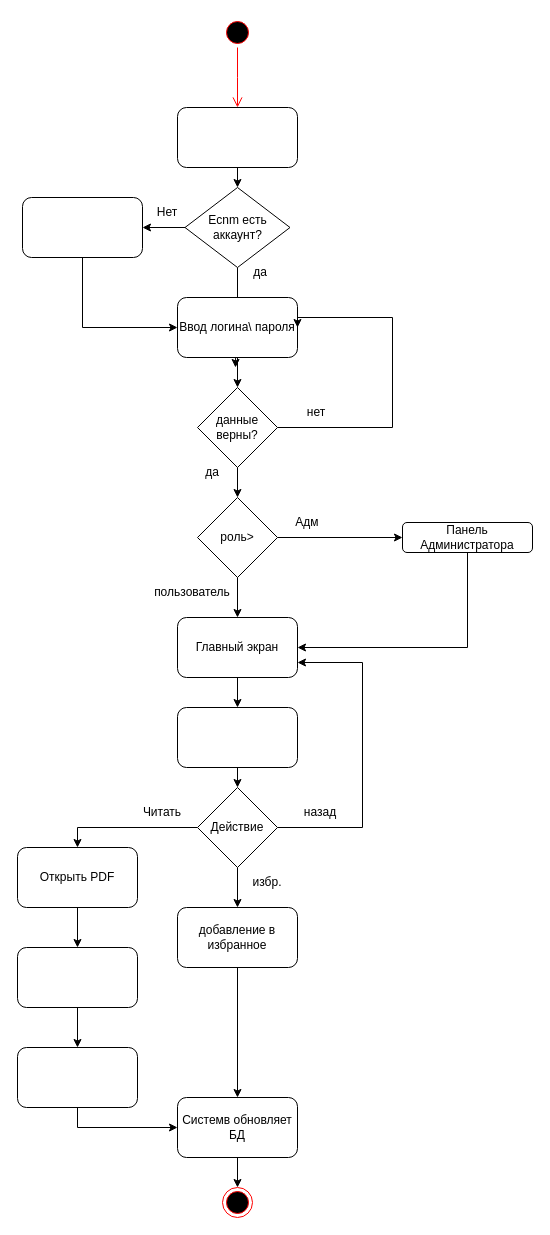
The diagram is 550 pixels wide and 1235 high, and some of its shapes have lost their labels. The shapes that lost their labels are listed below. From the top down, each one's centre as x and y in pixels, then its label:
At [237,137]: "Вход в систему".
At [82,227]: "Регистрация".
At [237,737]: "Поиск книг".
At [77,977]: "Сохранить в историю".
At [77,1077]: "начислить баллы".
